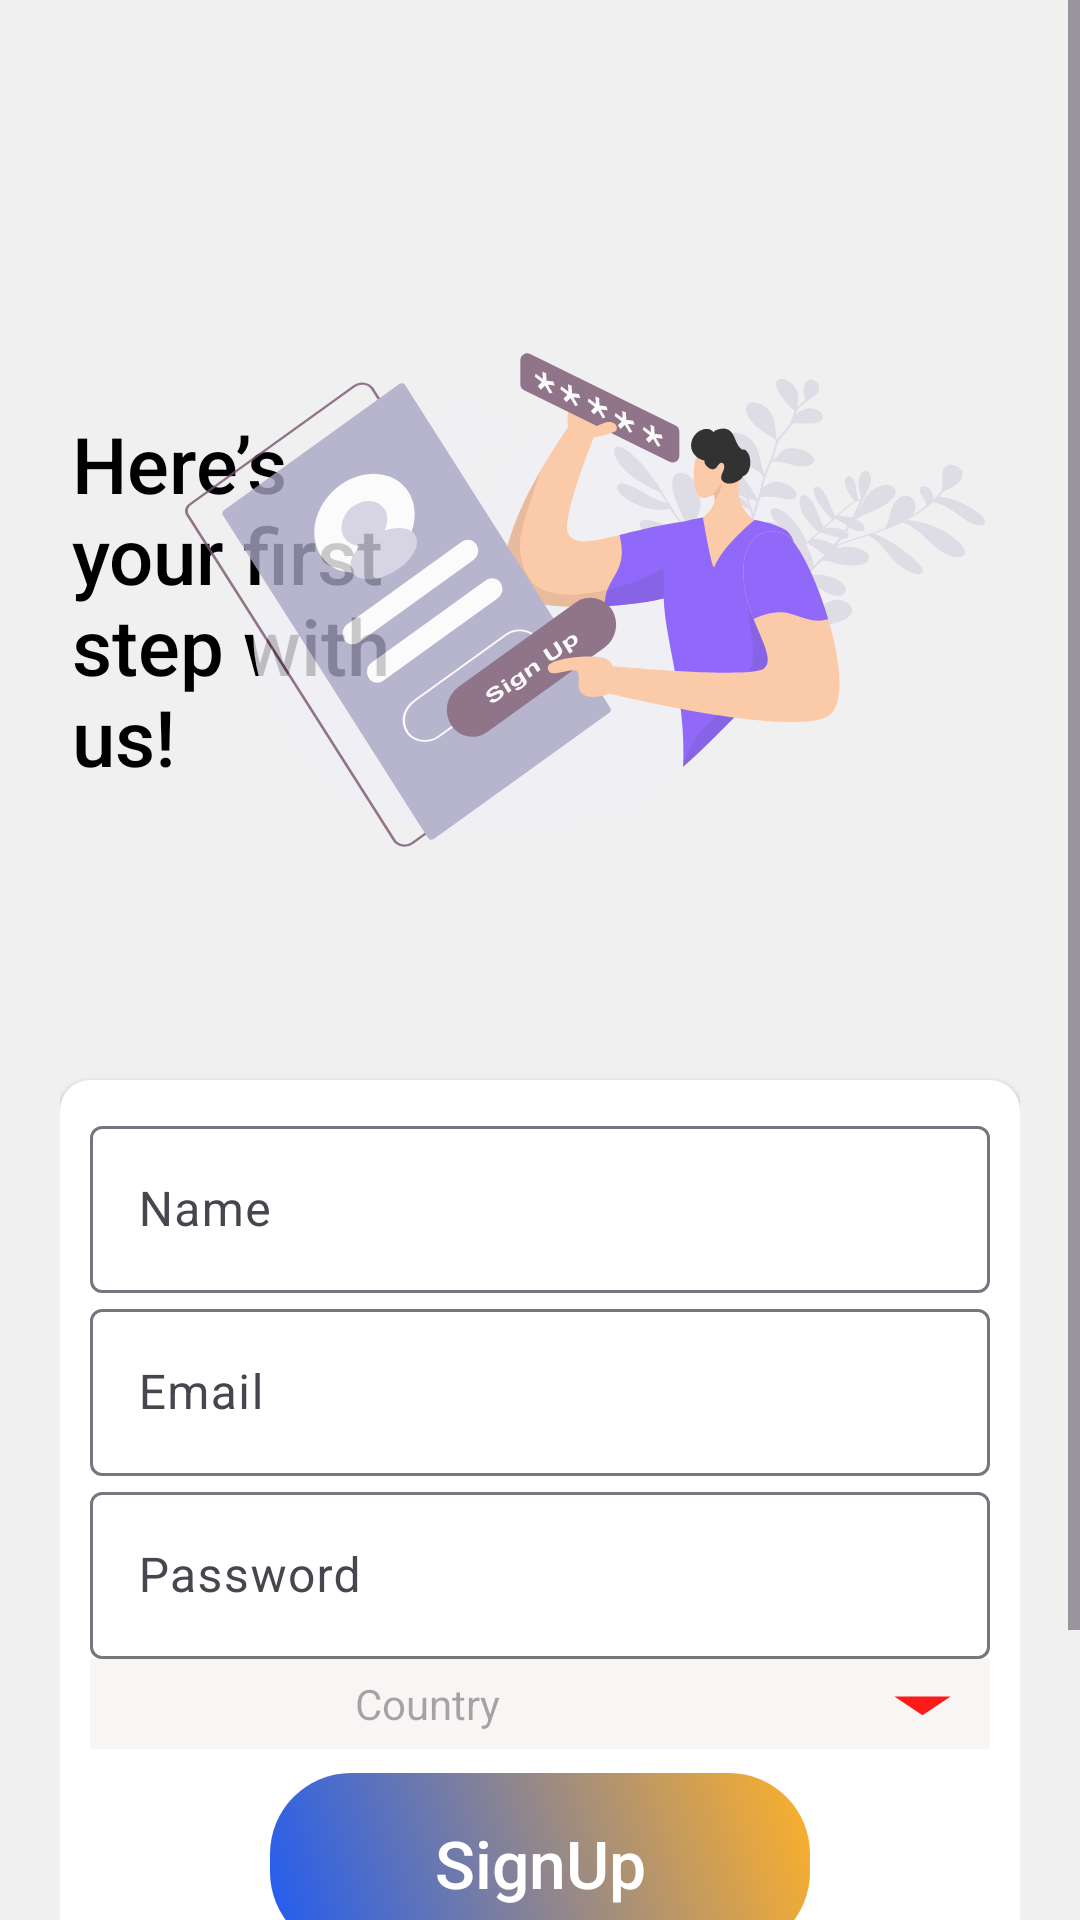

Screen size 1080px×1920px. Icon name, then its box in pixels as (x1, y1, x2, y2):
drop down: (894, 1696, 951, 1716)
